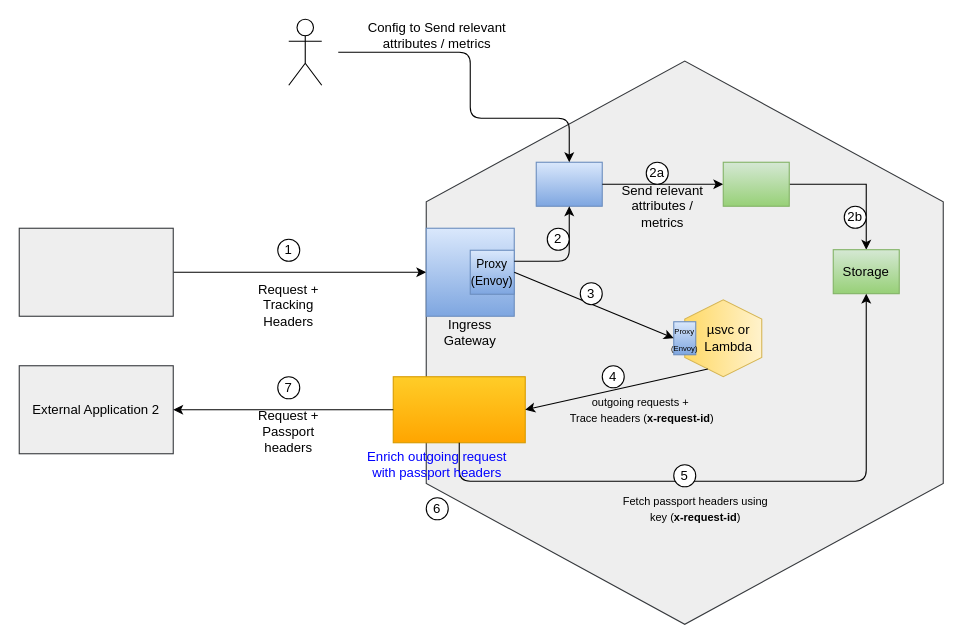
The diagram is 963 pixels wide and 644 high, and some of its shapes have lost their labels. The centre of each missing label's shape, as x and y in pixels:
"Application Gateway" belongs at point 458,409.
"Custom Adapter" belongs at point 755,183.
"External Application 1" belongs at point 95,271.
"Mixer" belongs at point 568,183.
"Operator Config" belongs at point 305,51.
